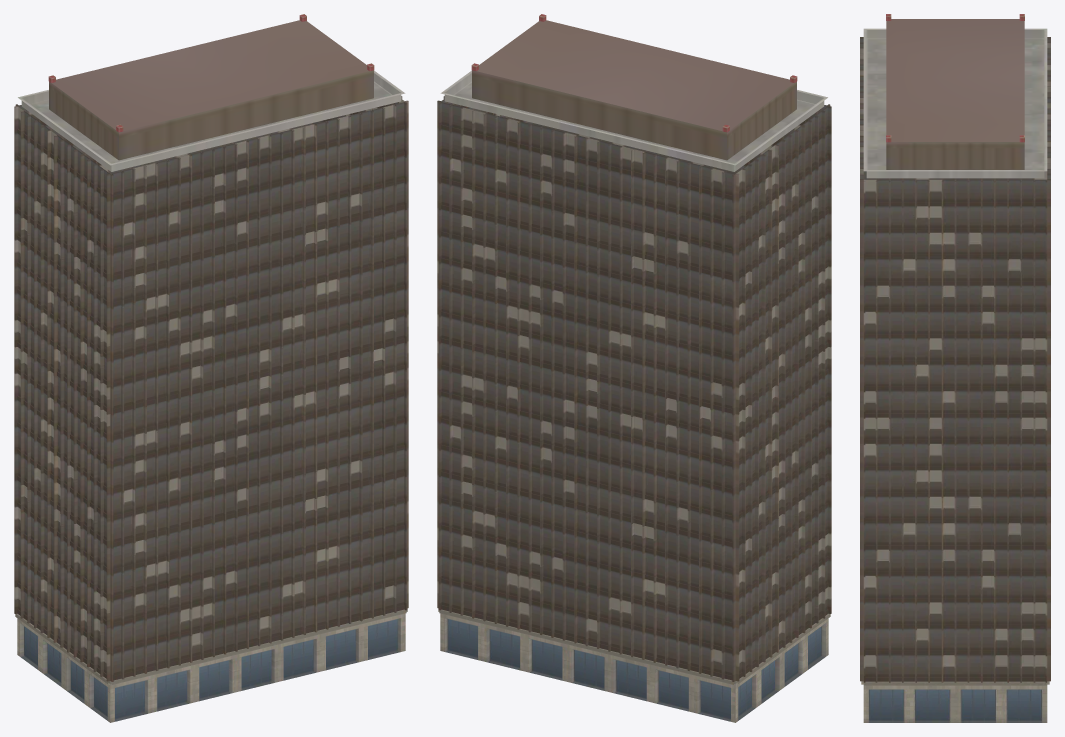
The model's file is tokyo_glassslab_a.glb.
3 renders of one model, left to right at view 1: azimuth 30°, elevation 25°; view 2: azimuth 150°, elevation 25°; view 3: azimuth 270°, elevation 25°, orthographic.
Parts seen in each view (by area): view 1: tokyo_glassslab_a; view 2: tokyo_glassslab_a; view 3: tokyo_glassslab_a.
Boxes of the visible parts, x1,y1,x2,y2 form: tokyo_glassslab_a: (14, 14, 408, 722); tokyo_glassslab_a: (437, 14, 831, 722); tokyo_glassslab_a: (860, 14, 1050, 722).
Bounding box in the file's own units: 44.9 × 82.9 × 24.9.
1 material, 1 textured.
